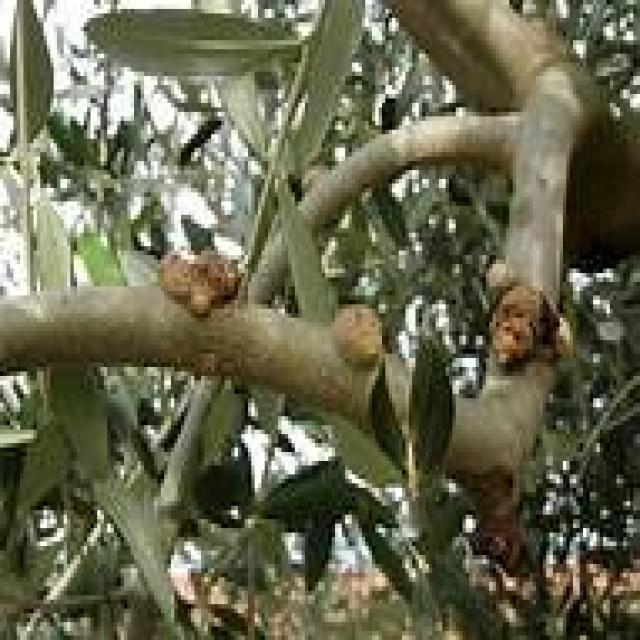Tuberculosis: (480, 272, 560, 372), (158, 250, 242, 314), (328, 313, 382, 374)
